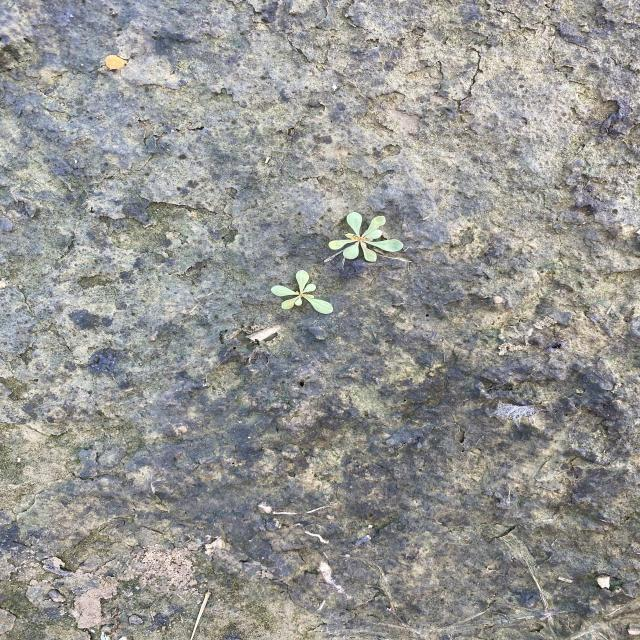Carpetweed: (327, 210, 406, 264), (269, 268, 335, 315)
